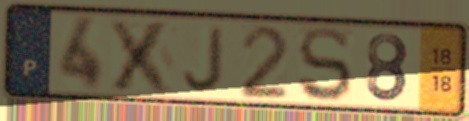2: (239, 22, 291, 100)
4: (54, 12, 107, 96)
8: (365, 31, 411, 103)
J: (181, 24, 228, 95)
S: (296, 24, 356, 105)
X: (107, 16, 178, 97)
